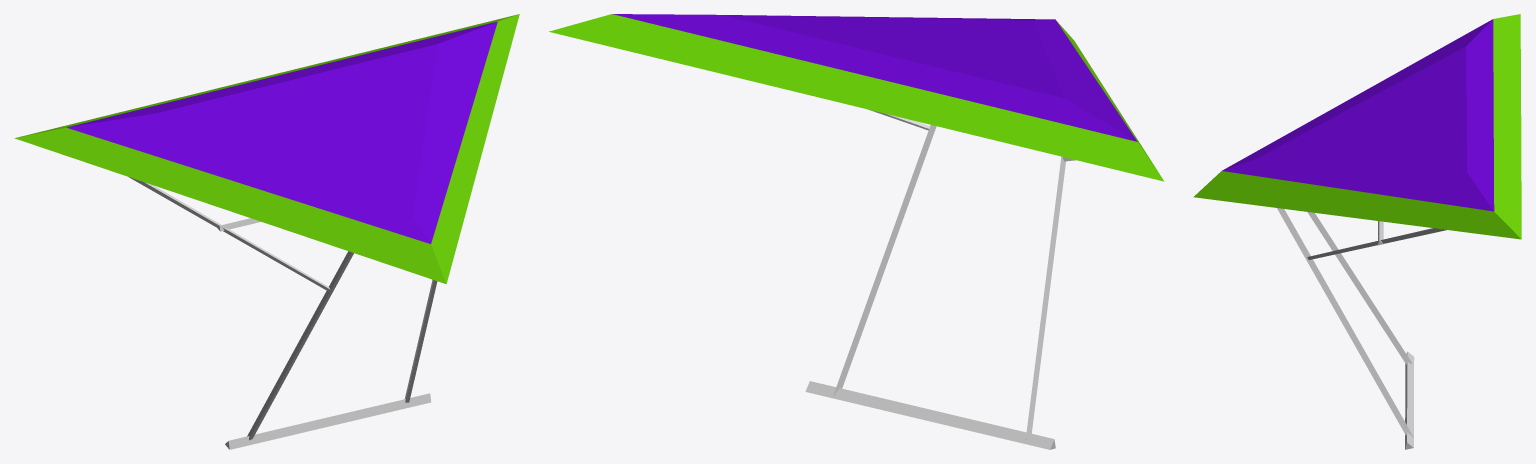
File: hanger_uv.fbx
3 renders of one model, left to right at view 1: azimuth 30°, elevation 25°; view 2: azimuth 150°, elevation 25°; view 3: azimuth 270°, elevation 25°, orthographic. The views are drawn at different scales.
Visible parts, largest first — view 1: Hanger; view 2: Hanger; view 3: Hanger.
Boxes of the visible parts, x1,y1,x2,y2 form: Hanger: [14, 14, 519, 449]; Hanger: [549, 14, 1164, 449]; Hanger: [1193, 14, 1521, 449].
Bounding box in the file's own units: 535 × 327 × 329.
